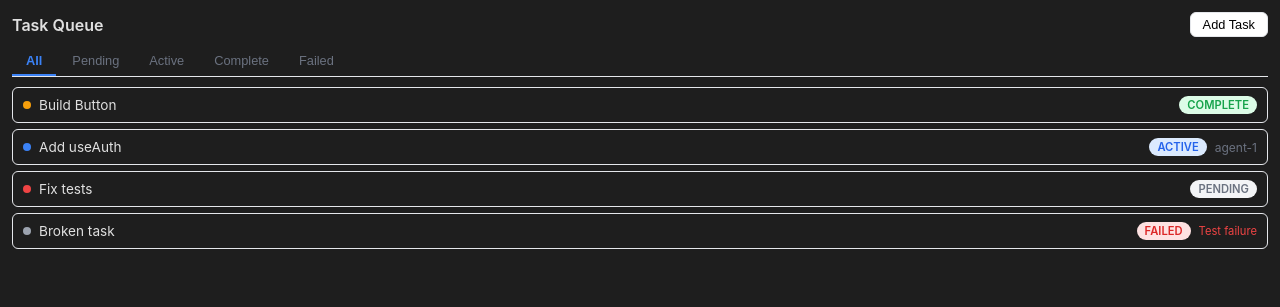
Test: TaskQueuePanel › should show add task form
This screenshot has width=1280, height=307.
Click the button "Add Task".
click(1229, 24)  # box [1190,12,1268,37]
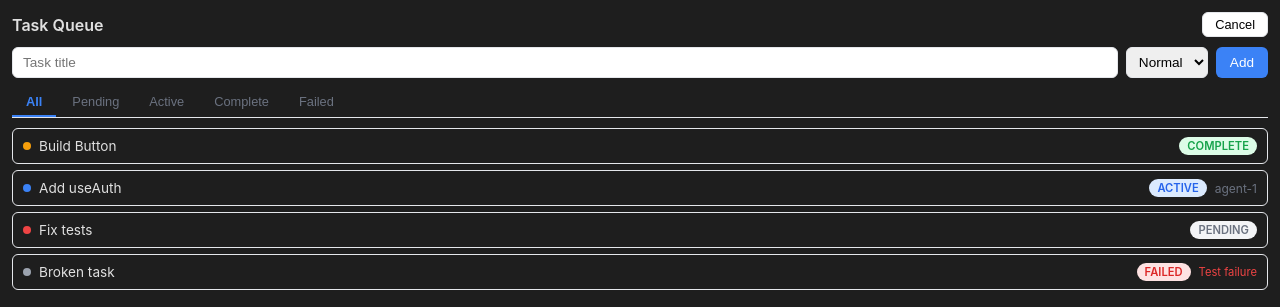
Check: the field with placeholder "Task title" is shown, box [12,47,1118,78]
